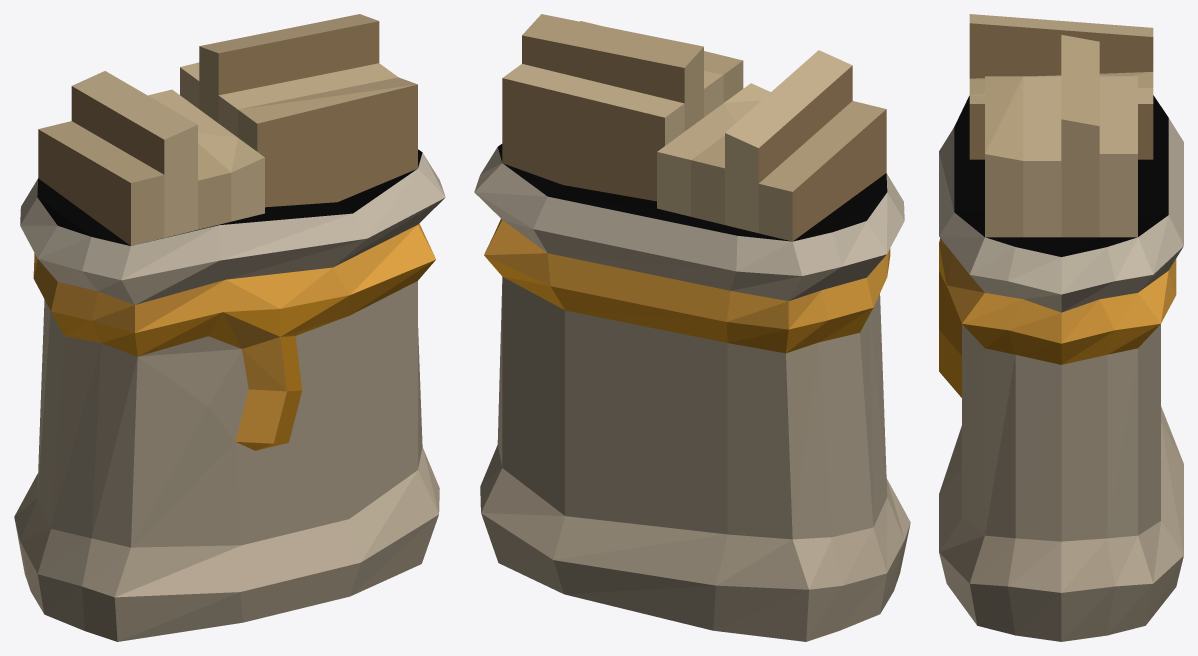
The model's file is plank-sack.gltf.
The picture shows the model from 3 angles, left to right: view 1: azimuth 30°, elevation 25°; view 2: azimuth 150°, elevation 25°; view 3: azimuth 270°, elevation 25°; orthographic projection. The views are drawn at different scales.
Size of the model in its own units: 58 by 74 by 32.
2 materials, 2 textured.
